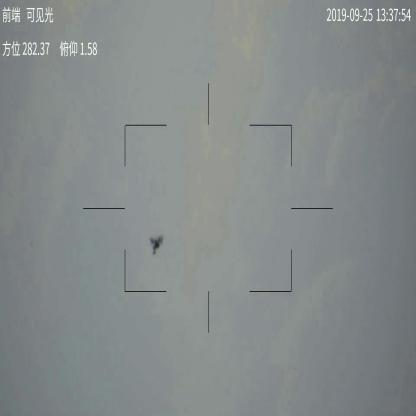uav: (146, 232, 166, 259)
